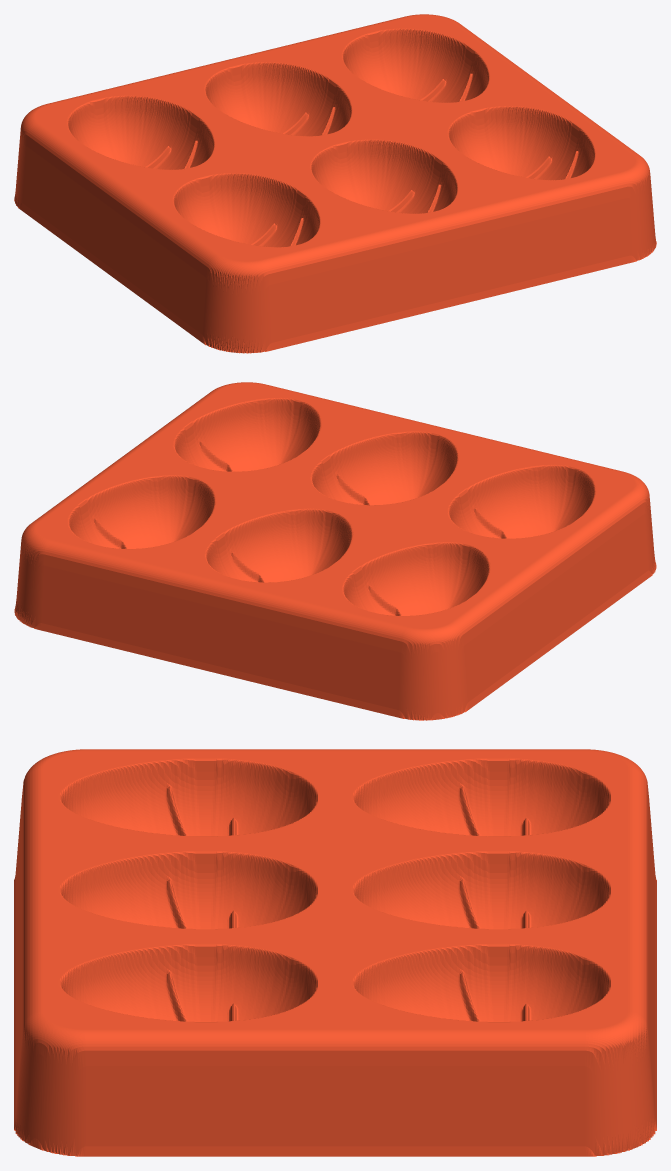
Rendered from mold.glb.
The picture shows the model from 3 angles, top to bottom: view 1: azimuth 30°, elevation 25°; view 2: azimuth 150°, elevation 25°; view 3: azimuth 270°, elevation 25°; orthographic projection. The views are drawn at different scales.
Parts seen in each view (by area): view 1: geometry_0; view 2: geometry_0; view 3: geometry_0.
Boxes of the visible parts, <box> form: geometry_0: <box>14,14,656,353</box>; geometry_0: <box>14,382,656,720</box>; geometry_0: <box>14,749,656,1156</box>.
Size of the model in its own units: 0.09 by 0.0159 by 0.0808.
